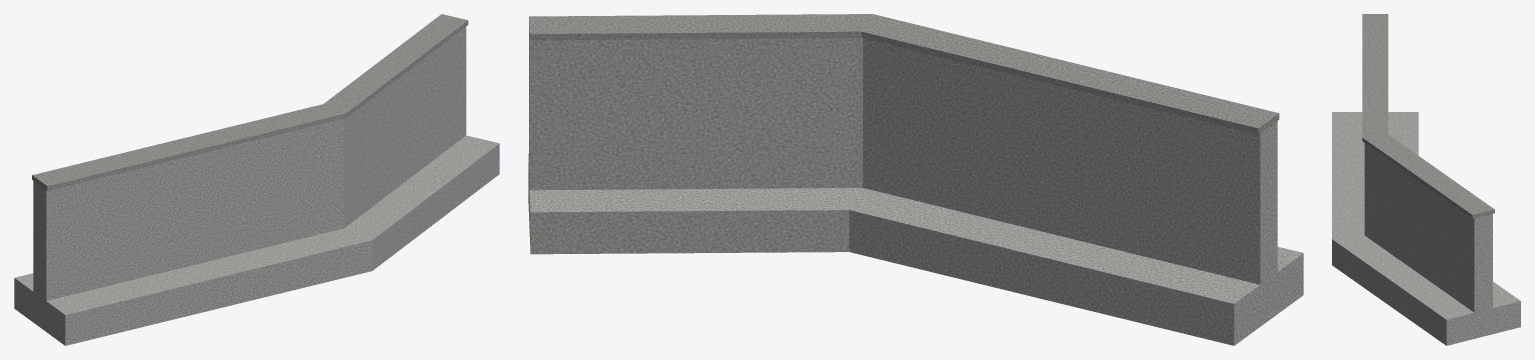
The picture shows the model from 3 angles, left to right: view 1: azimuth 30°, elevation 25°; view 2: azimuth 150°, elevation 25°; view 3: azimuth 270°, elevation 25°; orthographic projection. The views are drawn at different scales.
Visible parts, largest first — view 1: wall.retaining (×2); view 2: wall.retaining (×2); view 3: wall.retaining (×2).
Part boxes in pixels (bbox=[...]): wall.retaining (×2): bbox=[14, 14, 499, 345]; wall.retaining (×2): bbox=[528, 14, 1303, 345]; wall.retaining (×2): bbox=[1332, 14, 1520, 345].
Bounding box in the file's own units: 6.81 × 2.61 × 1.9.
2 materials, 2 textured.
